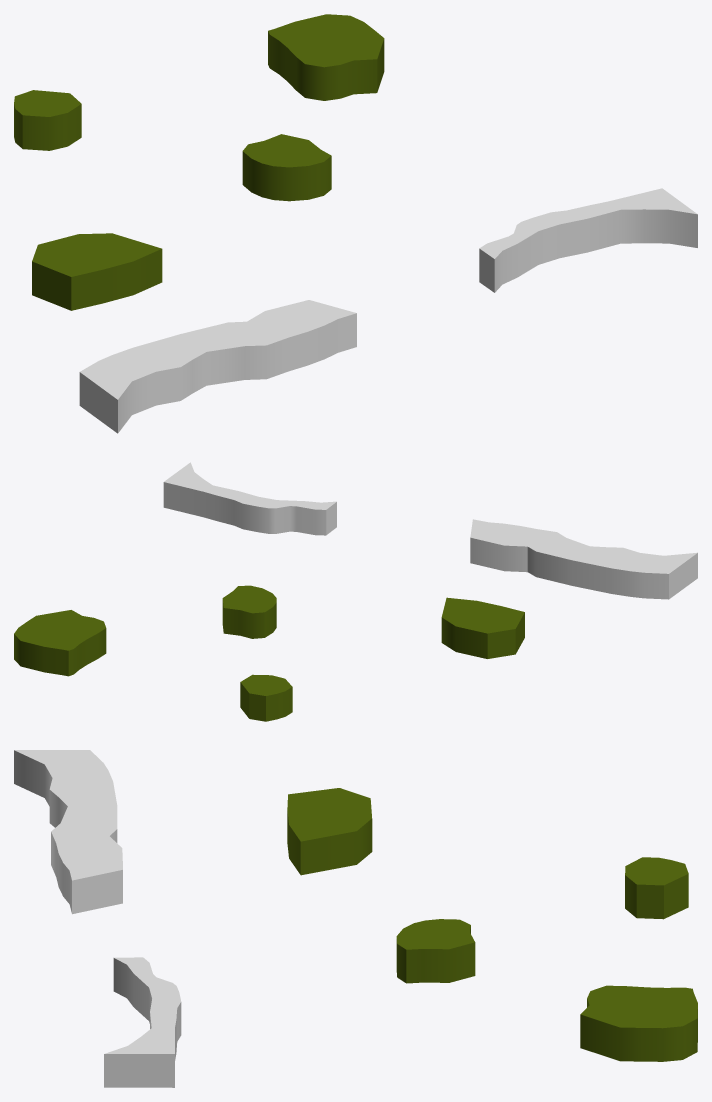
The model's file is zudang_01.FBX.
3 renders of one model, top to bottom at view 1: azimuth 30°, elevation 25°; view 2: azimuth 150°, elevation 25°; view 3: azimuth 270°, elevation 25°, orthographic. The views are drawn at different scales.
Visible parts, largest first — view 1: zudang_05, zudang_06, zudang_02, zudang_04, zudang_01, zudang_03; view 2: zudang_05, zudang_06, zudang_02, zudang_04, zudang_01, zudang_03; view 3: zudang_05, zudang_02, zudang_06, zudang_04, zudang_01, zudang_03.
Boxes of the visible parts, box(x1,y1,x2,y2) form: zudang_05: box(79, 300, 356, 433); zudang_06: box(479, 188, 697, 292); zudang_02: box(268, 14, 384, 100); zudang_04: box(32, 233, 162, 310); zudang_01: box(242, 134, 331, 201); zudang_03: box(14, 90, 81, 150); zudang_05: box(470, 519, 697, 599); zudang_06: box(163, 462, 336, 535); zudang_02: box(14, 610, 106, 676); zudang_04: box(441, 597, 524, 658); zudang_01: box(222, 585, 276, 638); zudang_03: box(240, 674, 292, 721); zudang_05: box(14, 750, 122, 914); zudang_02: box(580, 985, 697, 1061); zudang_06: box(104, 957, 181, 1087); zudang_04: box(287, 788, 372, 875); zudang_01: box(396, 919, 475, 983); zudang_03: box(625, 857, 688, 919).
Size of the model in its own units: 38.67 by 2 by 36.78.
